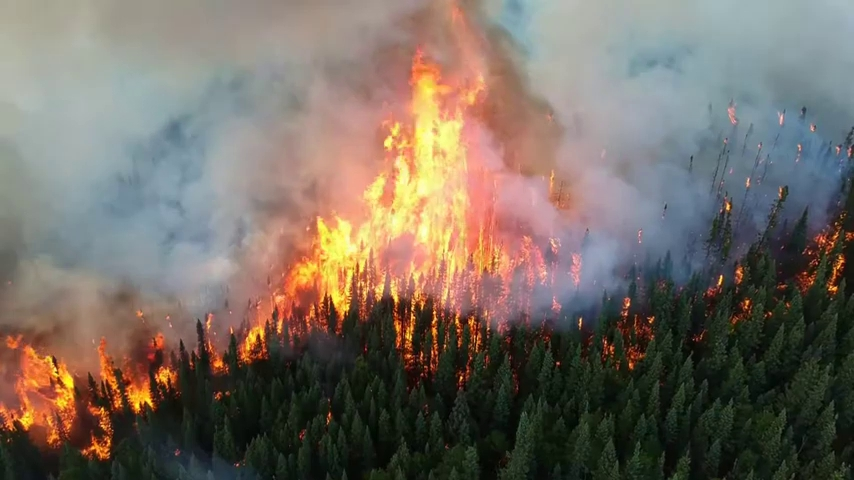forest_fire: (179, 54, 580, 373), (82, 334, 182, 459), (0, 336, 81, 446), (798, 226, 844, 294), (706, 262, 745, 297), (622, 282, 636, 322), (622, 346, 643, 368)
